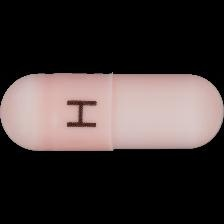33261-852: (0, 0, 224, 224)
